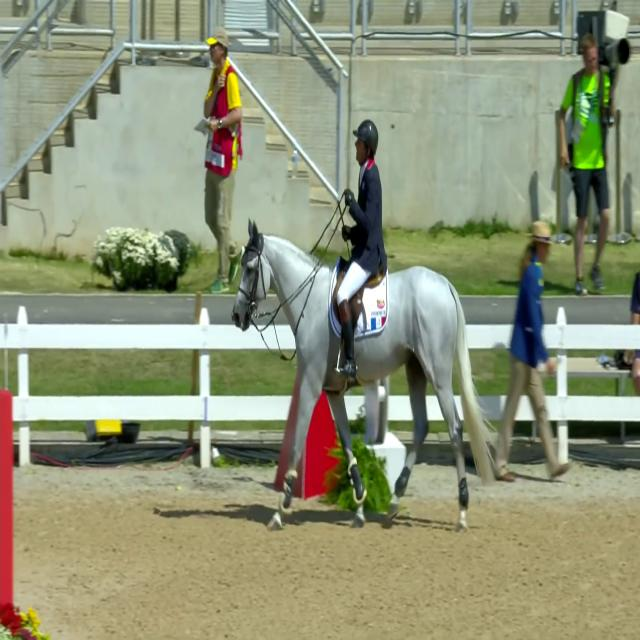Horse Rider: (322, 96, 394, 412)
Horse Running: (228, 208, 491, 537)
